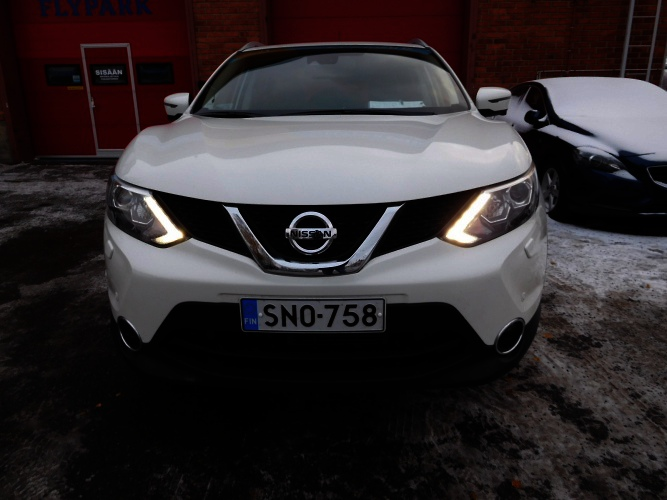license: (244, 294, 380, 337)
